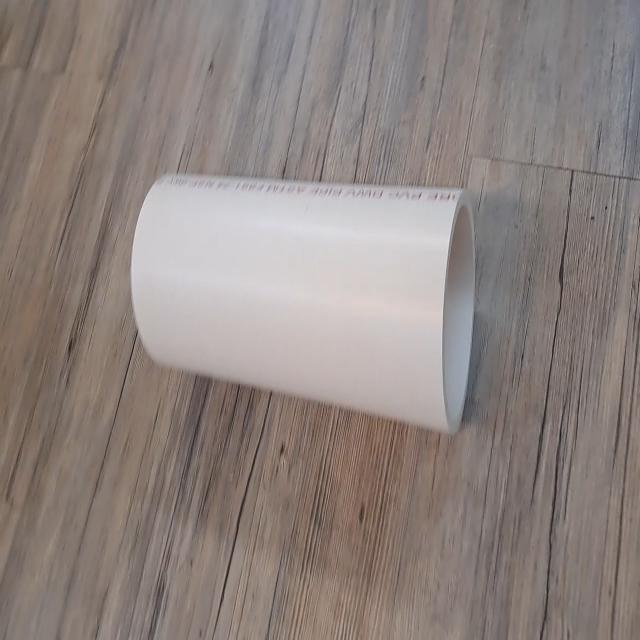CORAL: (132, 159, 478, 443)
